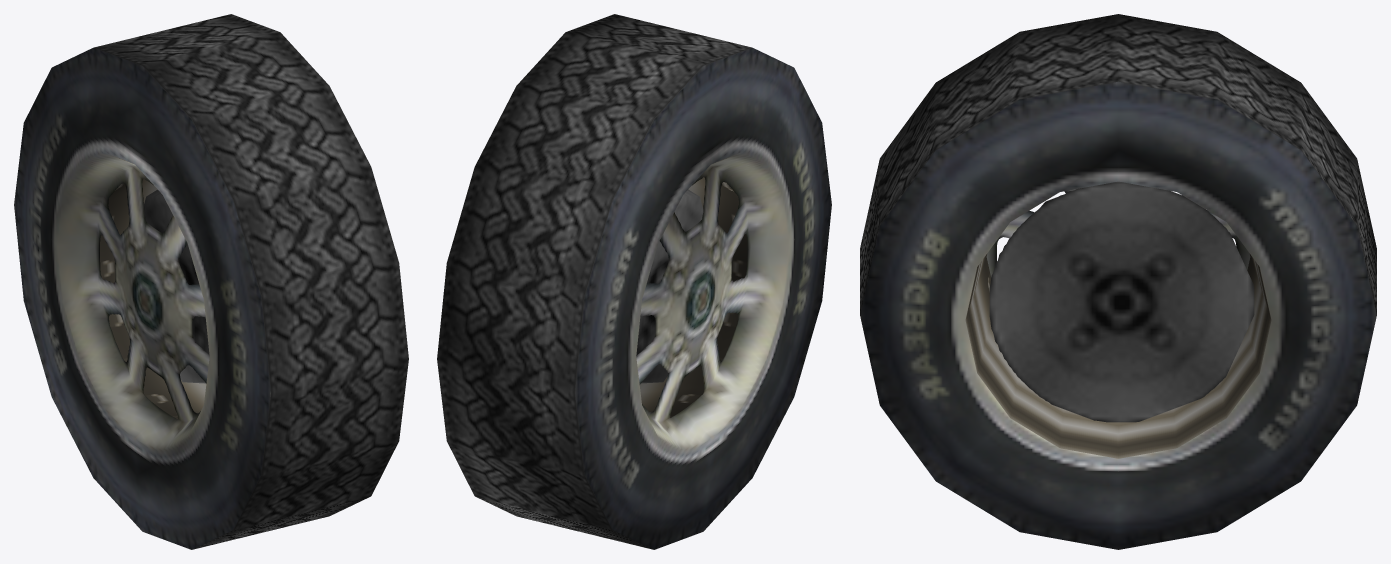
File: wheel_front_left.glb
3 renders of one model, left to right at view 1: azimuth 30°, elevation 25°; view 2: azimuth 150°, elevation 25°; view 3: azimuth 270°, elevation 25°, orthographic.
Parts seen in each view (by area): view 1: tire_fl; view 2: tire_fl; view 3: tire_fl.
Boxes of the visible parts, x1,y1,x2,y2 form: tire_fl: [14, 14, 408, 549]; tire_fl: [437, 14, 831, 549]; tire_fl: [860, 14, 1376, 549].
Bounding box in the file's own units: 0.175 × 0.5 × 0.5.
2 materials, 2 textured.
